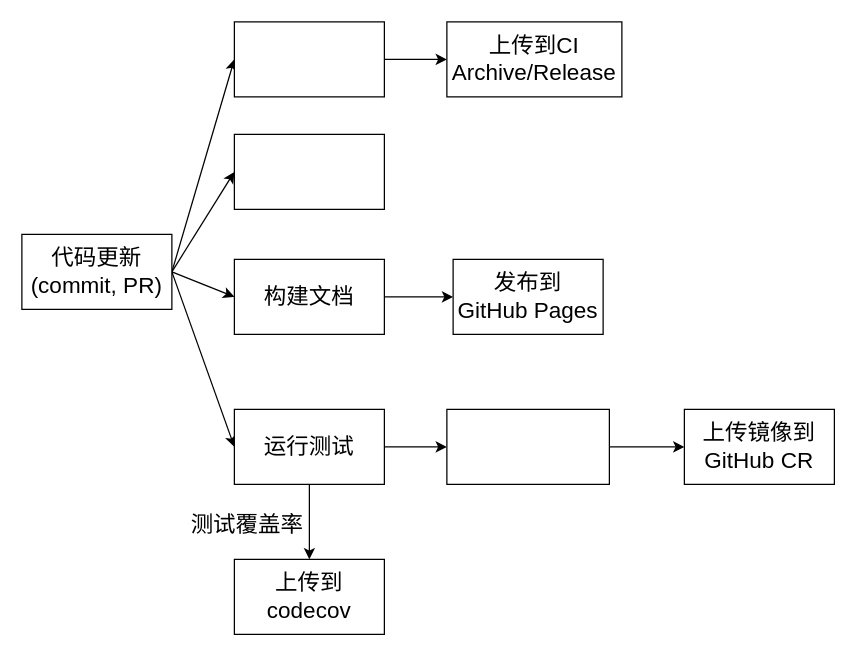
The diagram is 856 pixels wide and 656 high, and some of its shapes have lost their labels. Here are the shapes that lost their labels. From the top down, the centre of each, then its label:
the point at 308,59: 构建二进制文件
the point at 308,171: 更新scow-vagrant
the point at 527,446: 构建镜像 （非fork的PR）
